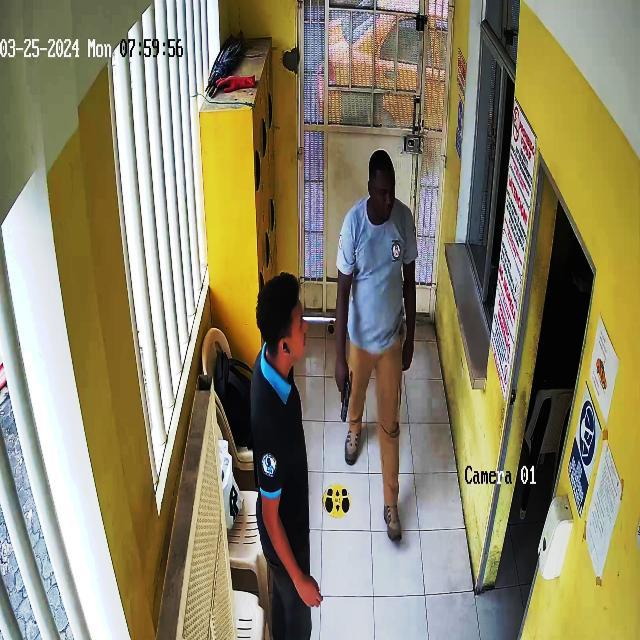Gun: (328, 356, 364, 430)
